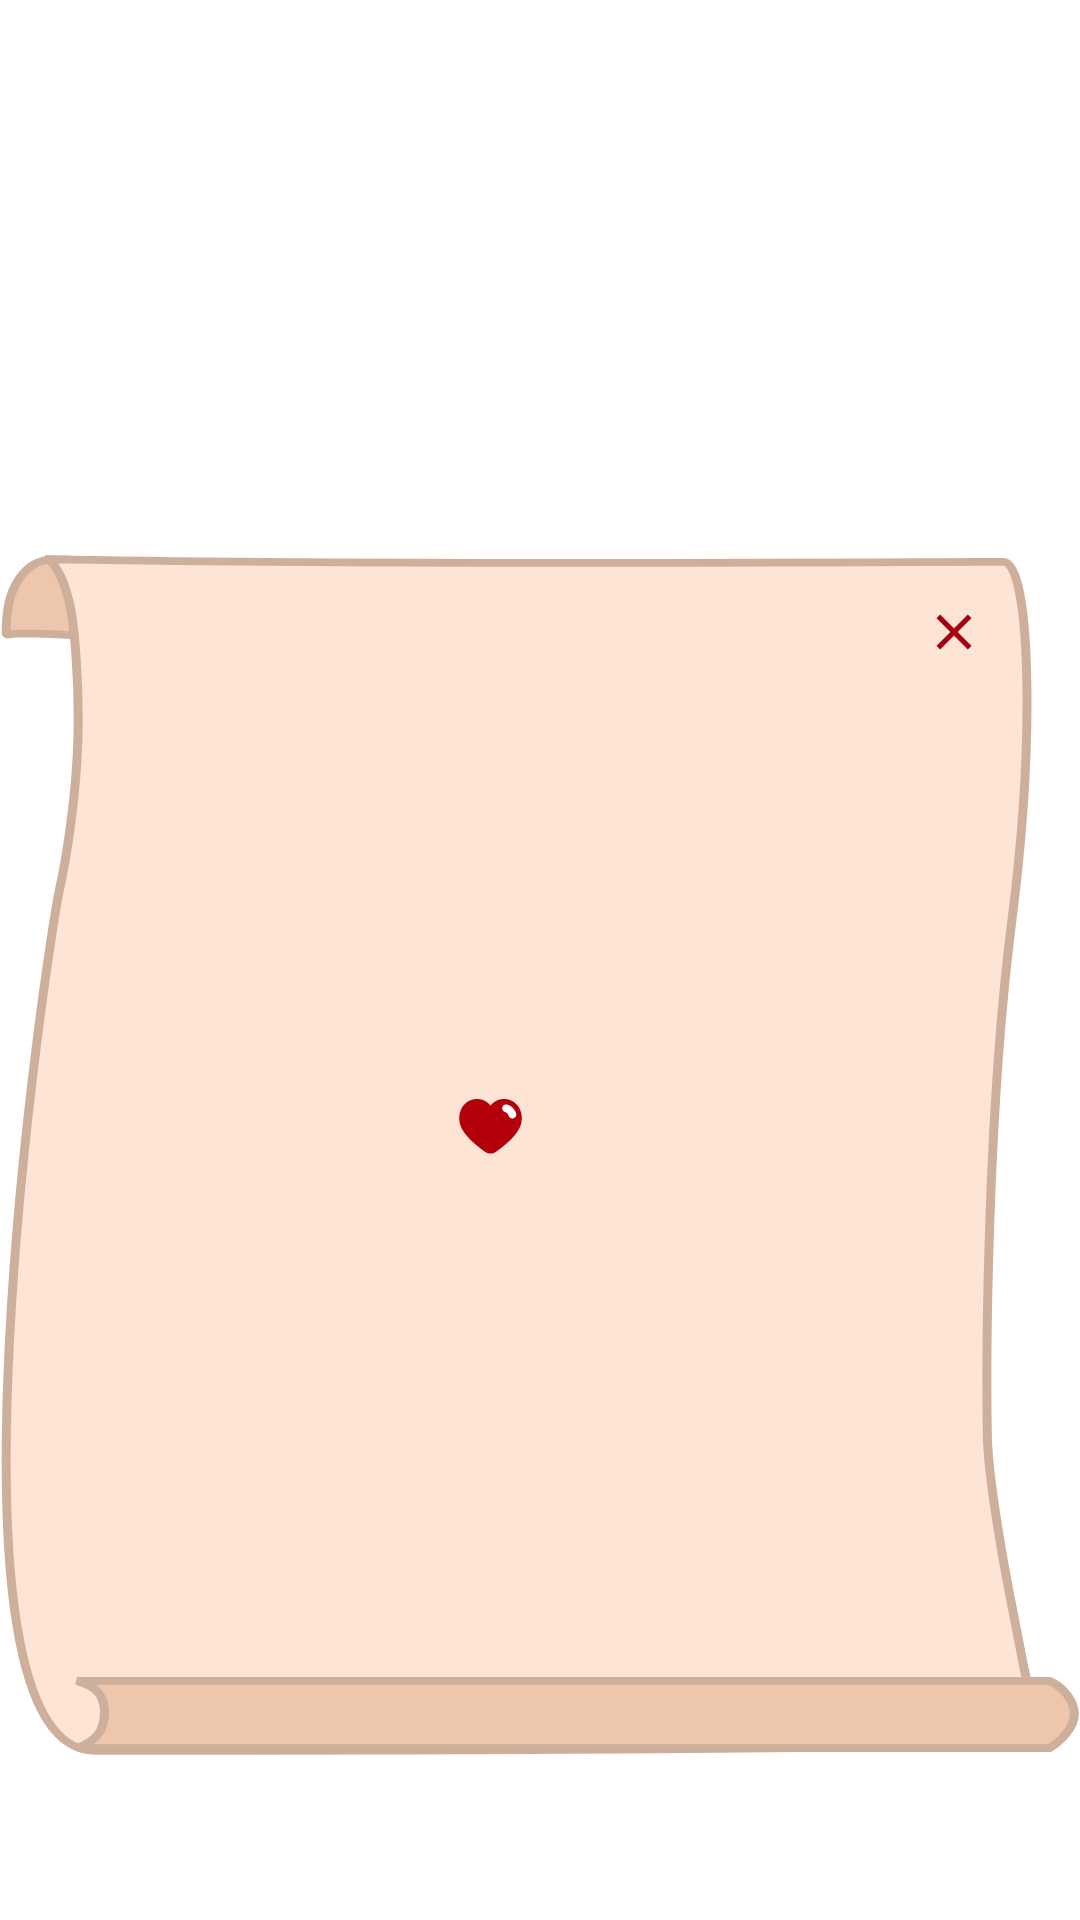

Where to tap for icons on this 1080x1920 app screen, as (x,y):
close: (954,632)
heart: (490,1126)
